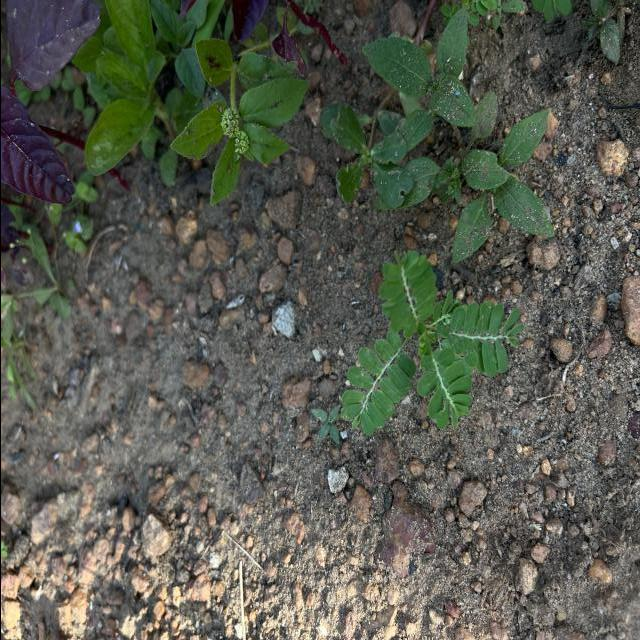Phyllanthus niruri: (338, 331, 416, 441), (444, 297, 522, 376), (377, 246, 438, 342), (414, 343, 474, 436)
